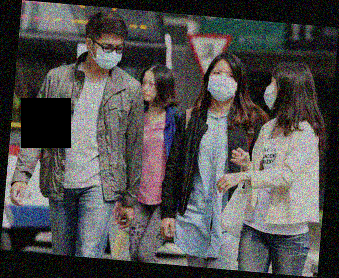with_mask: (89, 37, 124, 70), (207, 68, 239, 102), (263, 75, 279, 110)
without_mask: (139, 76, 157, 102)
